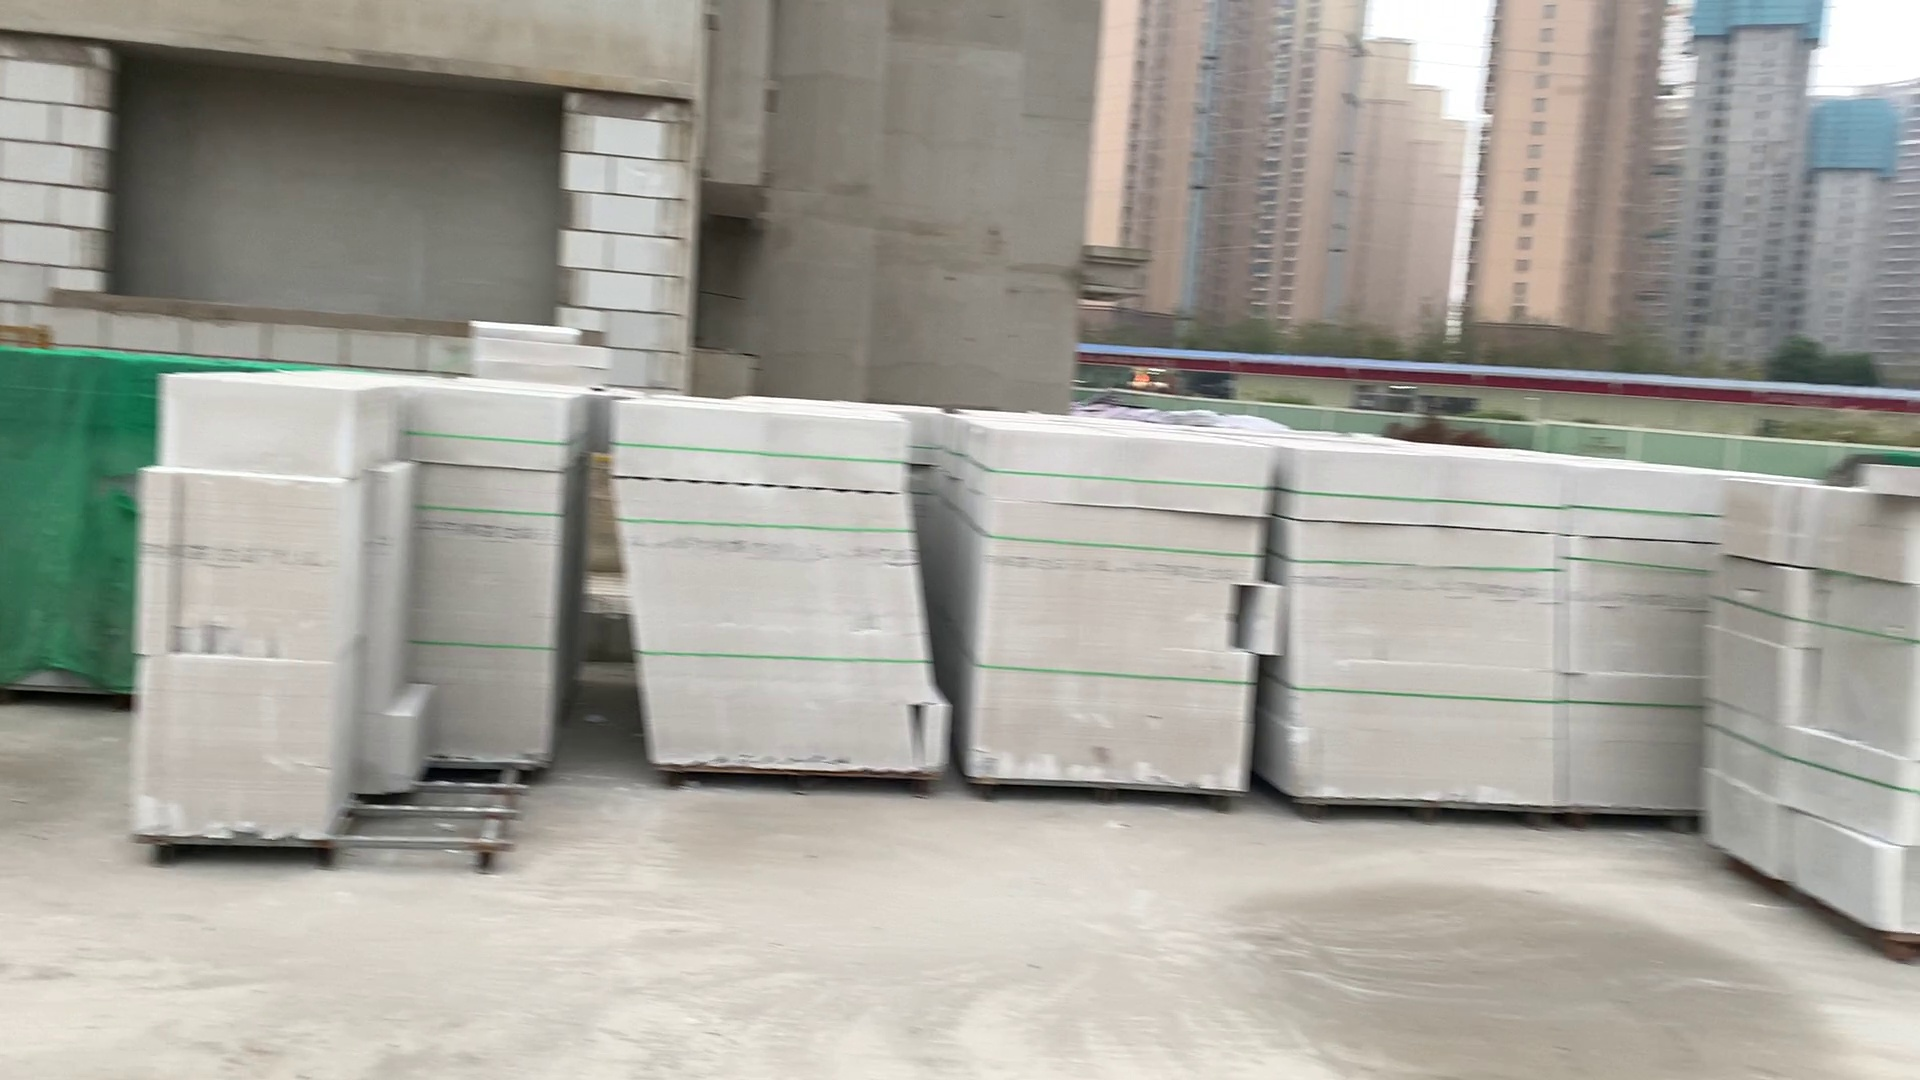brickwork: (149, 361, 560, 865), (608, 393, 938, 777), (971, 411, 1262, 807), (1288, 442, 1564, 825), (1712, 469, 1911, 938), (1567, 456, 1712, 848)
